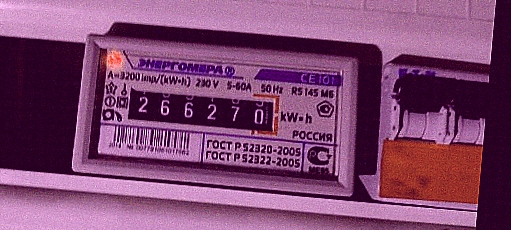0: (251, 105, 264, 126)
2: (135, 93, 151, 115), (204, 101, 218, 122)
6: (158, 97, 171, 118), (182, 99, 195, 119)
7: (227, 103, 241, 123)
screen: (113, 74, 290, 145)
